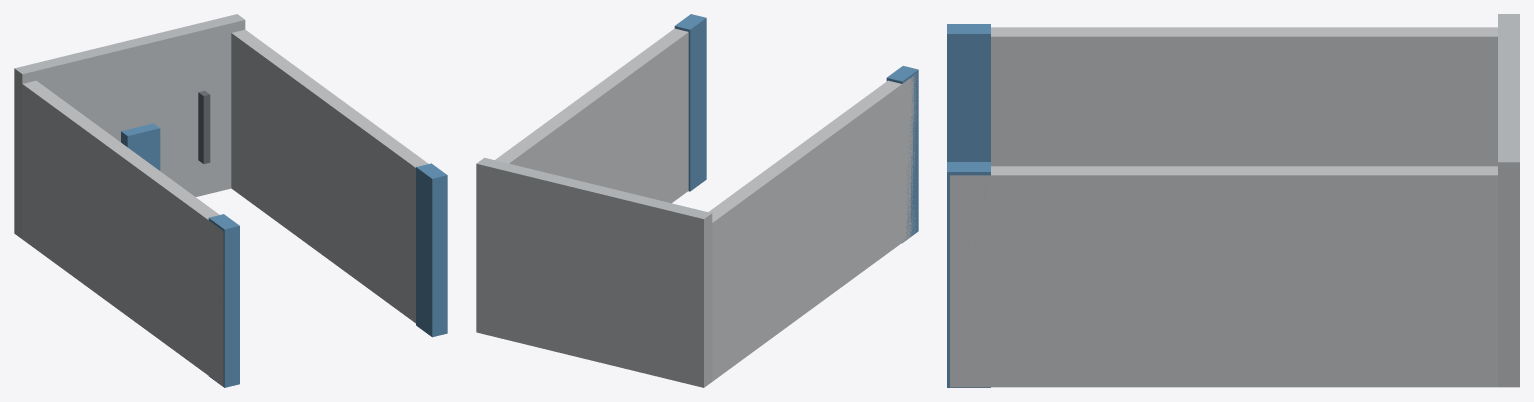
Rendered from wash_bay.glb.
3 renders of one model, left to right at view 1: azimuth 30°, elevation 25°; view 2: azimuth 150°, elevation 25°; view 3: azimuth 270°, elevation 25°, orthographic. The views are drawn at different scales.
Visible parts, largest first — view 1: wash_bay; view 2: wash_bay; view 3: wash_bay.
Boxes of the visible parts, x1,y1,x2,y2 form: wash_bay: (14, 14, 447, 387); wash_bay: (476, 14, 918, 387); wash_bay: (947, 14, 1519, 387).
Bounding box in the file's own units: 4.8 × 3.41 × 7.84.
